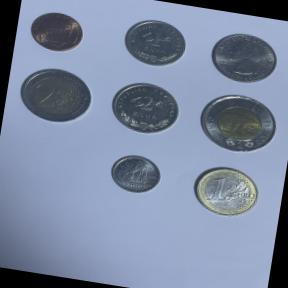coin: (191, 86, 284, 160), (11, 59, 99, 129), (202, 26, 284, 90), (105, 75, 184, 140), (186, 159, 266, 223), (25, 6, 88, 58), (104, 148, 166, 199)
